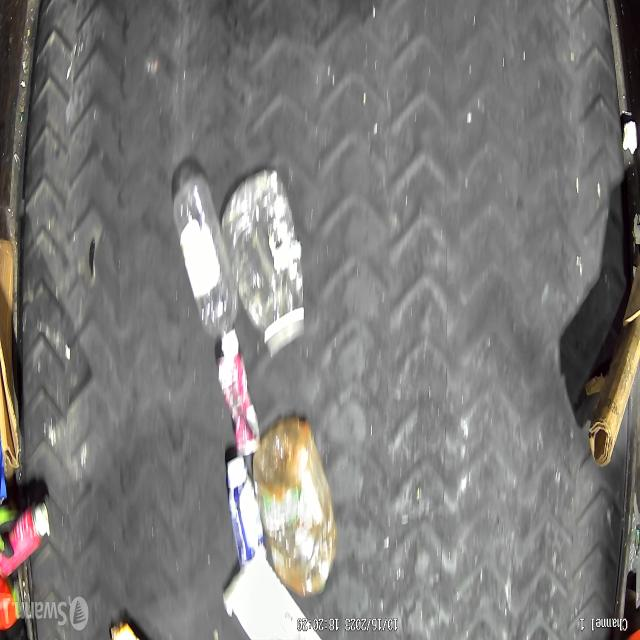can: (216, 348, 260, 456)
plastic_bottle: (223, 171, 304, 356), (170, 170, 240, 356)
